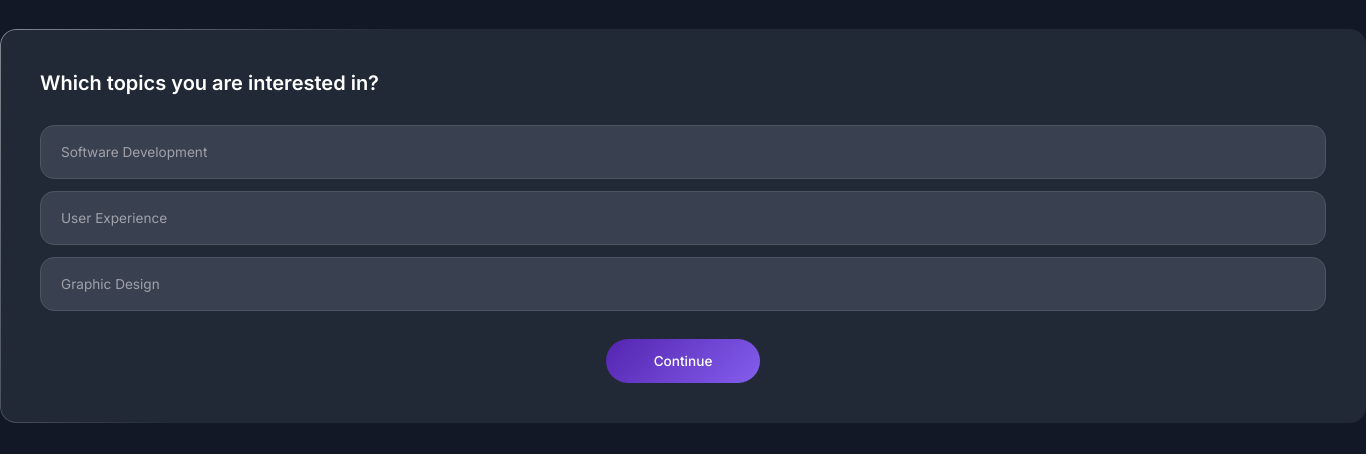
Test case: Step2 › shows error when Continue clicked with no selection
This screenshot has width=1366, height=454.
What coordinates should you click on to do the following:
click the button "Continue"
I would click on:
 (683, 361)
Its box is 606,339 -> 760,383.
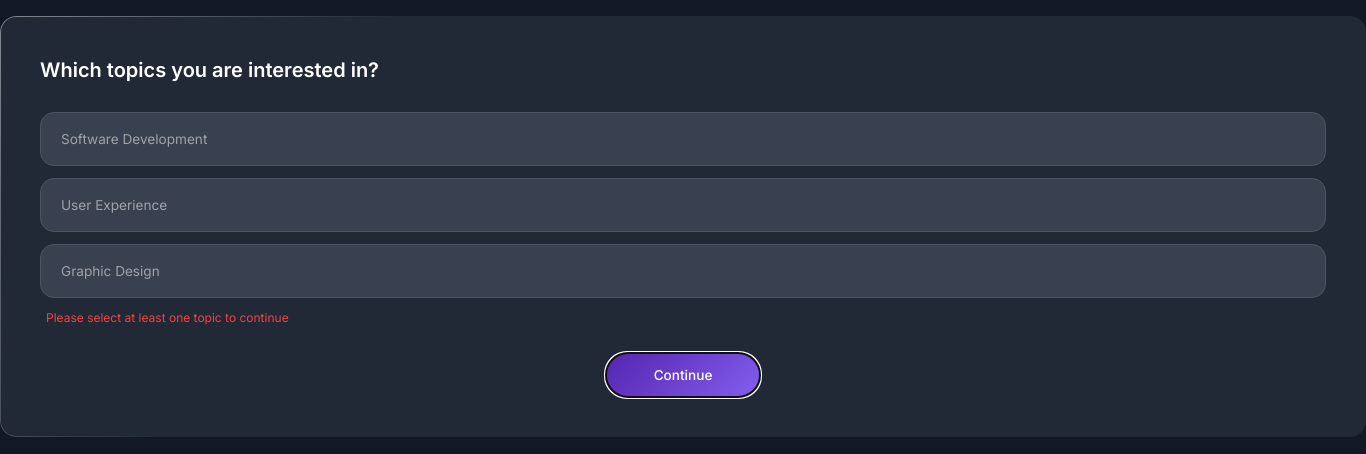
Check: the message shows "select at least one", box 46,310 -> 289,324
